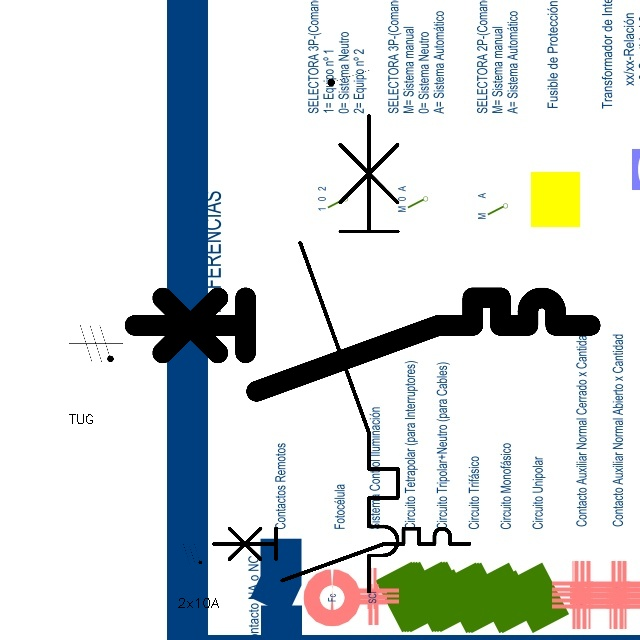interruptor_termomagnetico: (288, 103, 410, 603), (123, 286, 602, 403), (207, 522, 475, 587)
